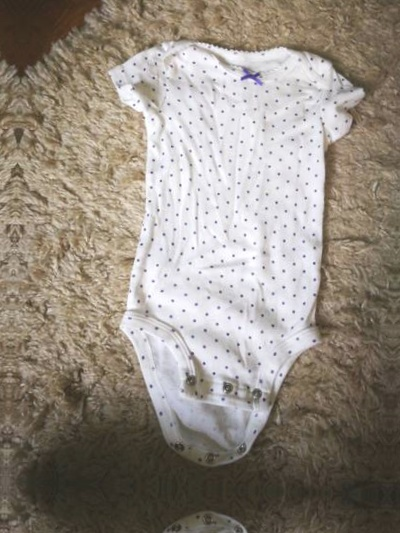Body: (86, 26, 376, 466), (67, 514, 358, 533), (399, 526, 400, 533)
